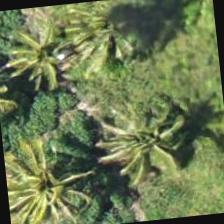Kelapa_Sawit: (100, 90, 200, 188), (2, 9, 100, 108), (3, 140, 103, 223)
